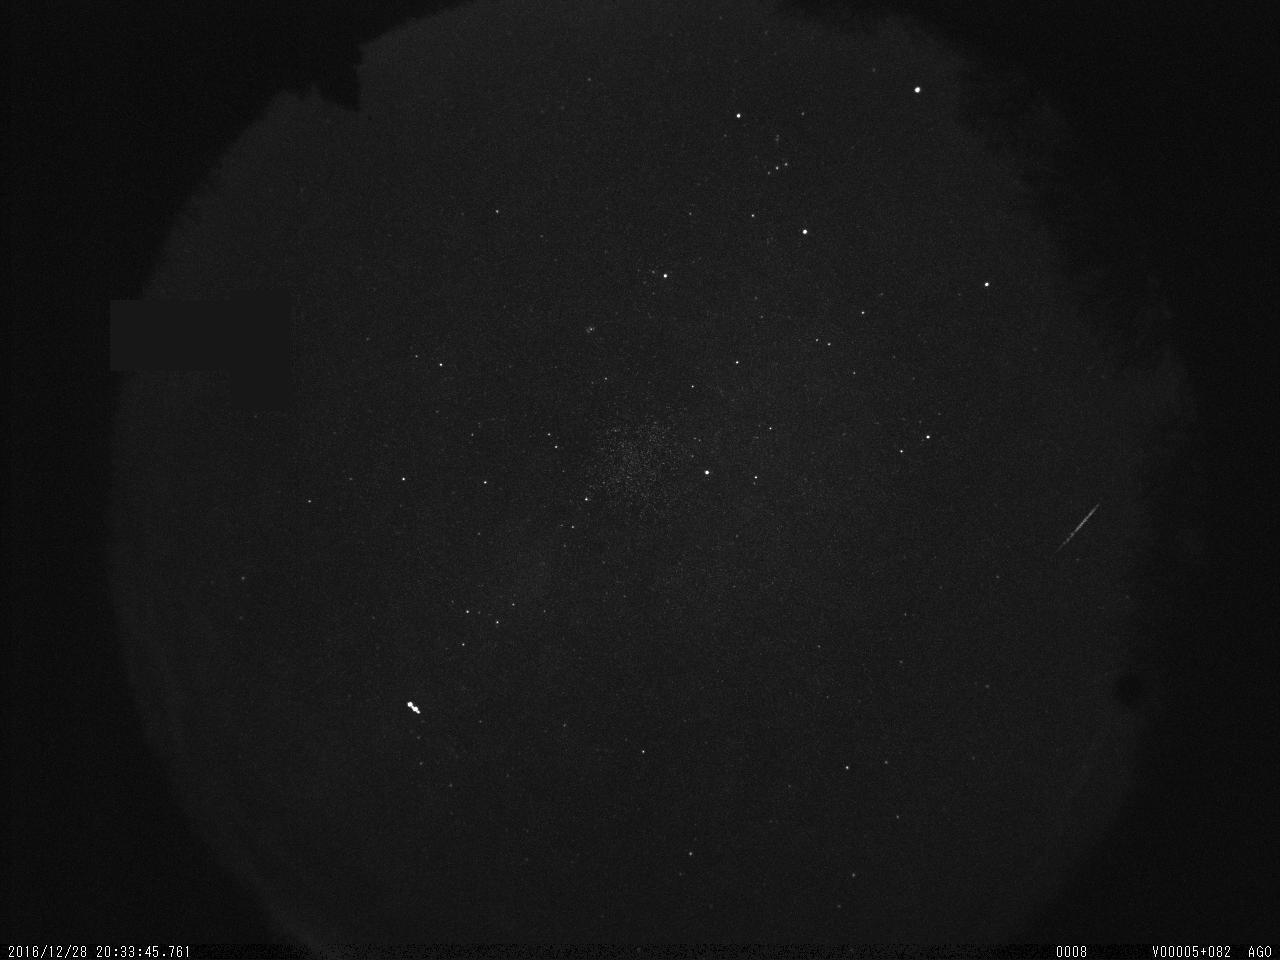meteor: (1039, 480, 1118, 569)
